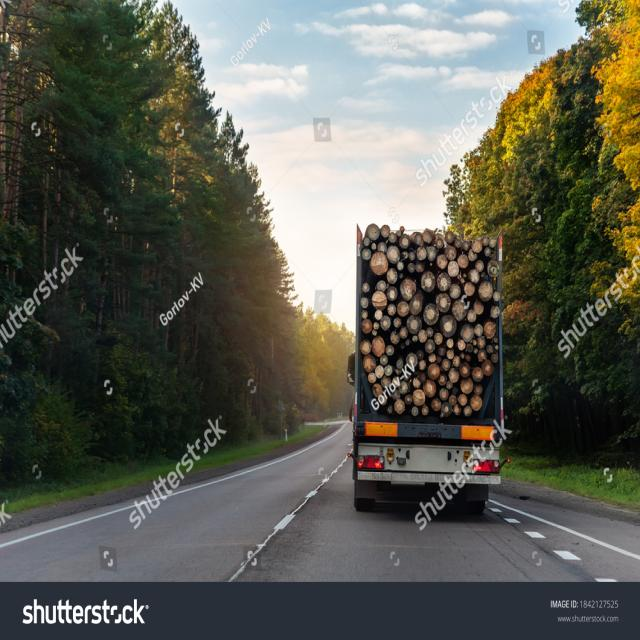Truck: (346, 216, 509, 522)
